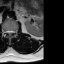CCS_normal: (8, 28, 10, 38)
LFS_normal: (13, 27, 16, 35)
LLS_normal: (10, 27, 13, 36)
RFS_normal: (3, 27, 6, 34)
RLS_normal: (6, 27, 8, 35)
